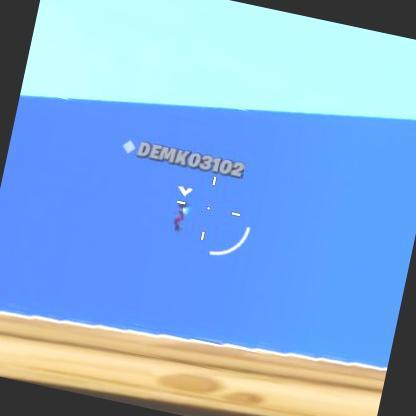person: (171, 194, 190, 229)
